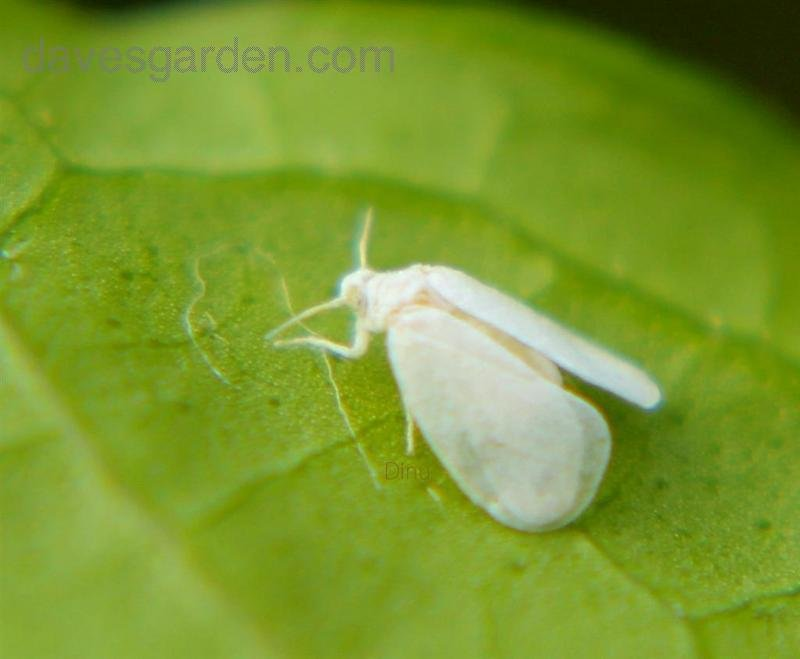Tobacco Whitefly: (270, 233, 637, 541)
